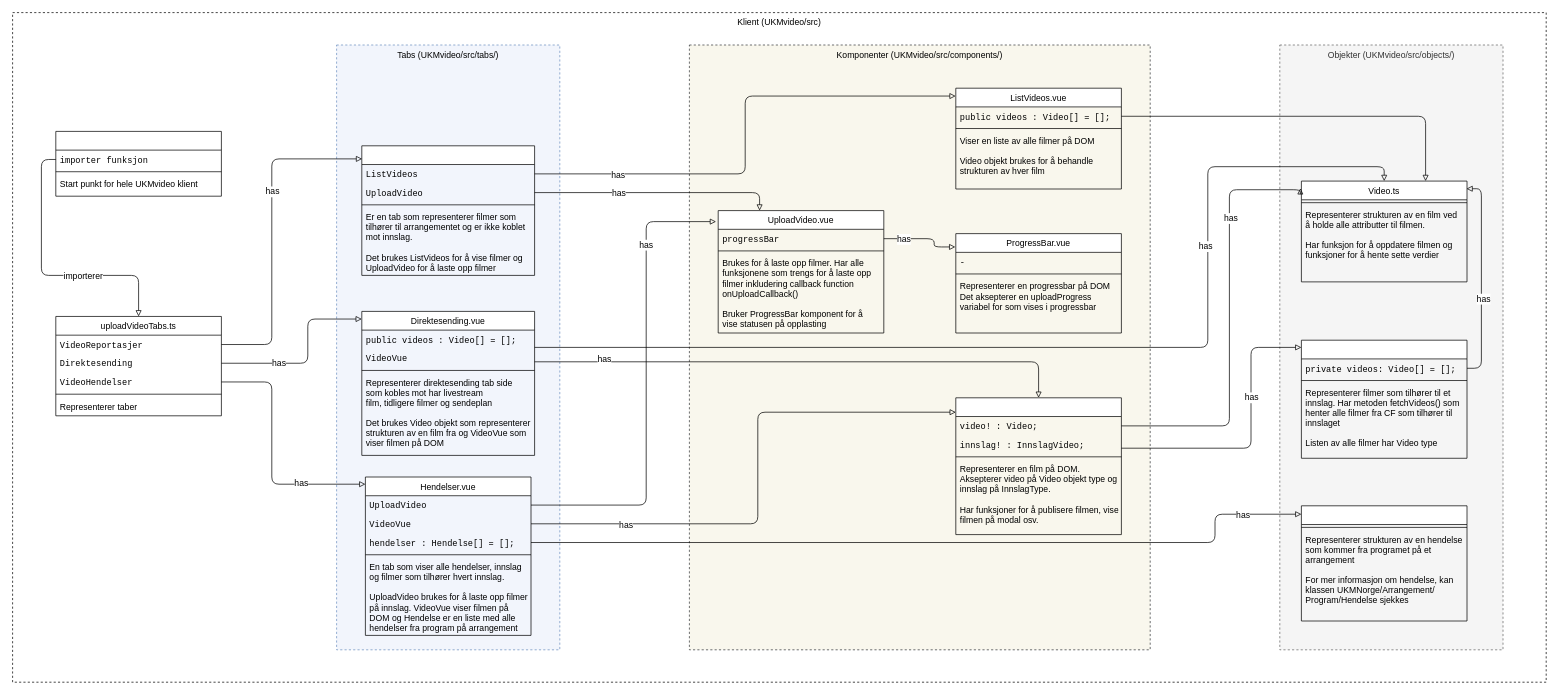
Image size: 1559x695. Some labels were removed from this diagram. Here are the shapes that lost their labels. From the top down, the box of each, then its label:
(55, 131, 221, 196): index.ts
(361, 145, 535, 275): Reportasjer.vue
(1301, 339, 1467, 458): InnslagVideo.ts
(955, 397, 1121, 535): VideoVue.vue
(1301, 505, 1467, 621): Hendelse.ts
